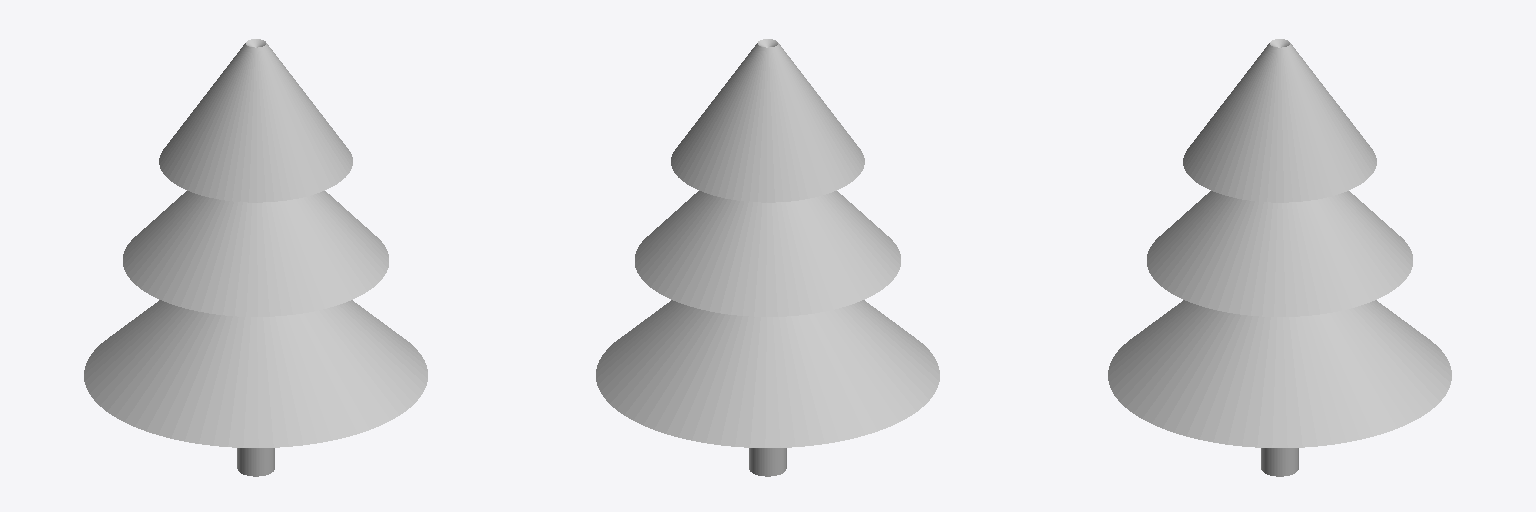
Rendered from pinetree.obj.
3 views of the same model, side by side, from view 1: azimuth 30°, elevation 25°; view 2: azimuth 150°, elevation 25°; view 3: azimuth 270°, elevation 25° (orthographic).
Parts seen in each view (by area): view 1: Forma 1; view 2: Forma 1; view 3: Forma 1.
Part boxes in pixels (left/top/right/bottom): Forma 1: left=84, top=39, right=427, bottom=476; Forma 1: left=596, top=39, right=939, bottom=476; Forma 1: left=1108, top=39, right=1451, bottom=476.
Bounding box in the file's own units: 50 × 68.21 × 50.01.